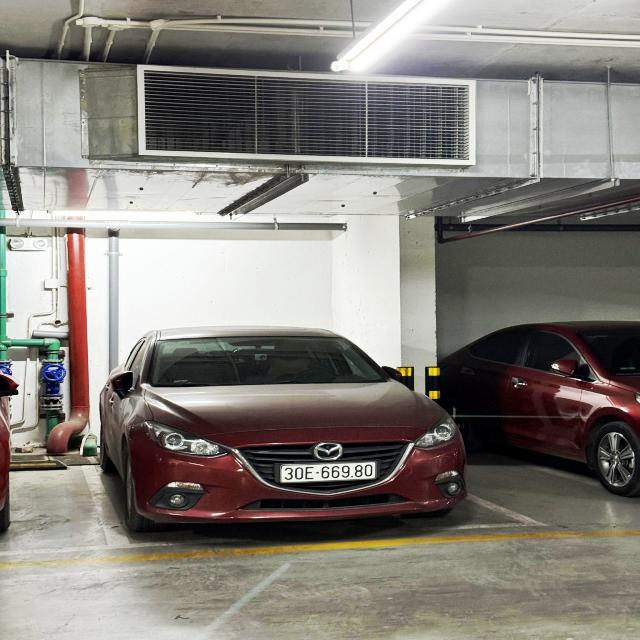license_plate: (276, 460, 381, 486)
